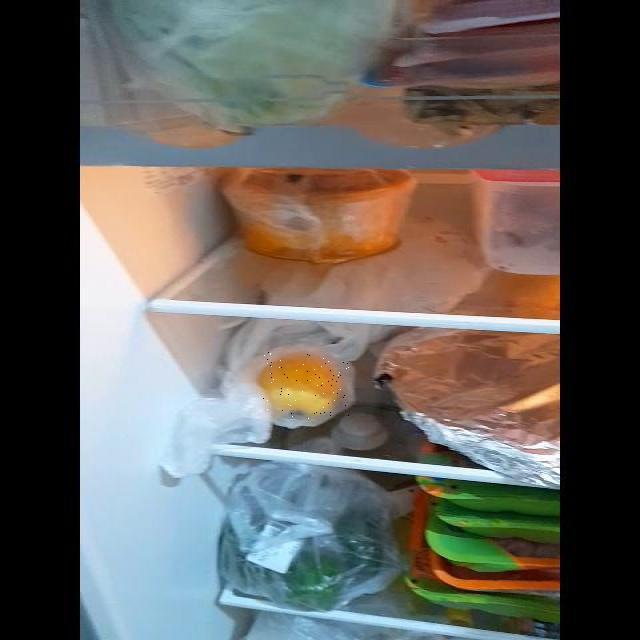lemon: (263, 352, 349, 420)
